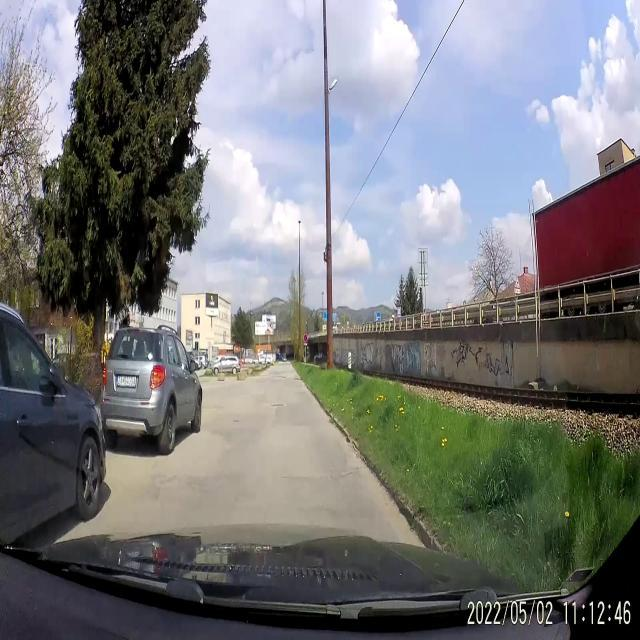Manhole: (268, 395, 286, 413)
Pothole: (232, 416, 240, 425)
